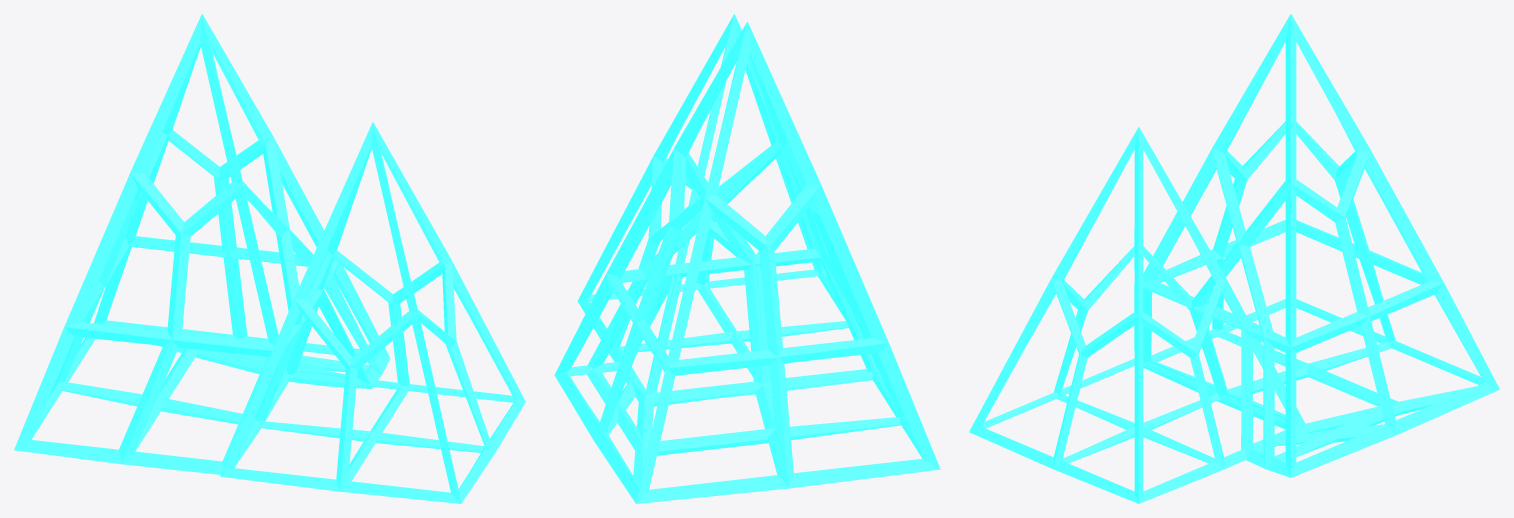
Rendered from Env_MountanS_02.fbx.
3 views of the same model, side by side, from view 1: azimuth 30°, elevation 25°; view 2: azimuth 150°, elevation 25°; view 3: azimuth 270°, elevation 25° (orthographic). The views are drawn at different scales.
Parts seen in each view (by area): view 1: Env_MountanS_02.001; view 2: Env_MountanS_02.001; view 3: Env_MountanS_02.001.
Part boxes in pixels (x1=…): Env_MountanS_02.001: x1=14, y1=14, x2=525, y2=503; Env_MountanS_02.001: x1=554, y1=14, x2=940, y2=503; Env_MountanS_02.001: x1=969, y1=14, x2=1499, y2=503.
Bounding box in the file's own units: 94.85 × 82.66 × 105.
